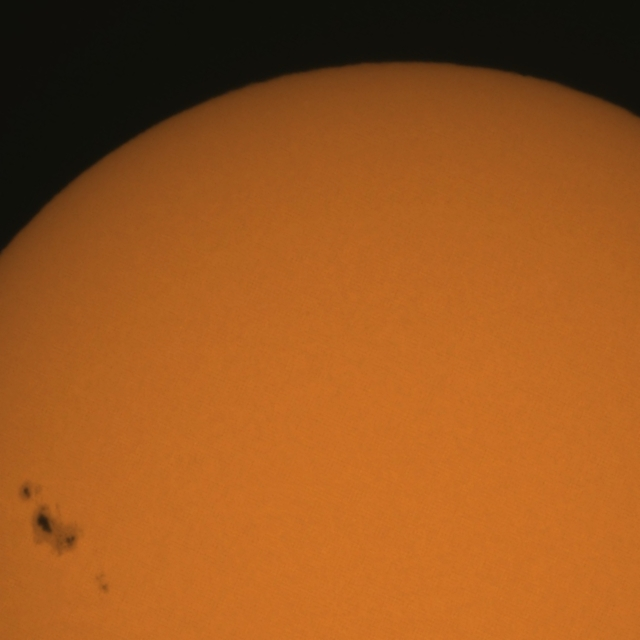sunspot: (32, 511, 78, 561), (20, 480, 65, 527), (32, 493, 62, 539), (18, 480, 45, 506), (94, 572, 110, 594)
